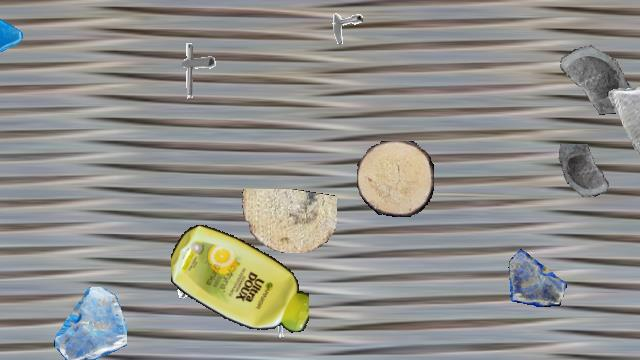glass: (550, 32, 632, 114), (54, 287, 126, 359), (555, 144, 617, 206), (508, 248, 566, 306), (606, 87, 640, 161), (0, 1, 25, 65)
metal: (164, 40, 224, 100), (171, 255, 217, 301), (263, 301, 307, 345), (321, 2, 363, 44)
plastic: (171, 221, 309, 337)
wood: (239, 189, 337, 253), (357, 141, 433, 217)
